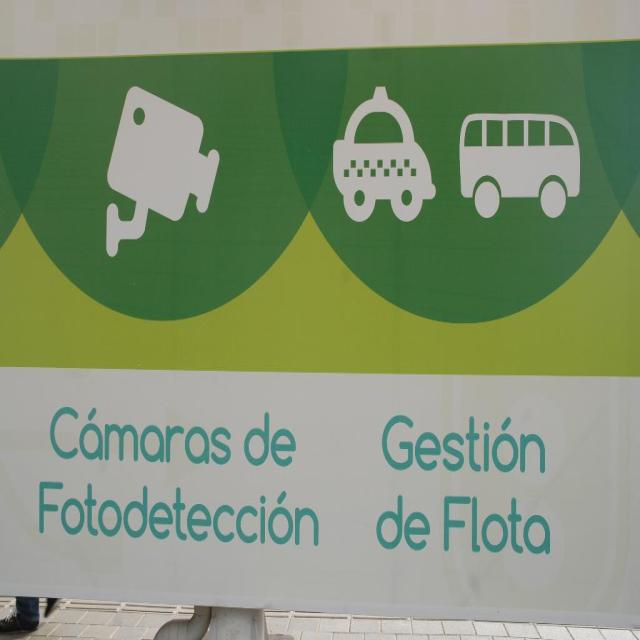car: (332, 83, 435, 222)
